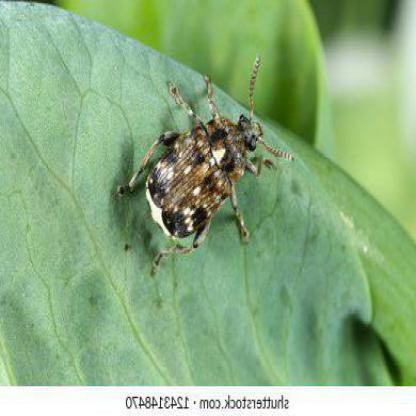ash weevil: (119, 57, 292, 268)
